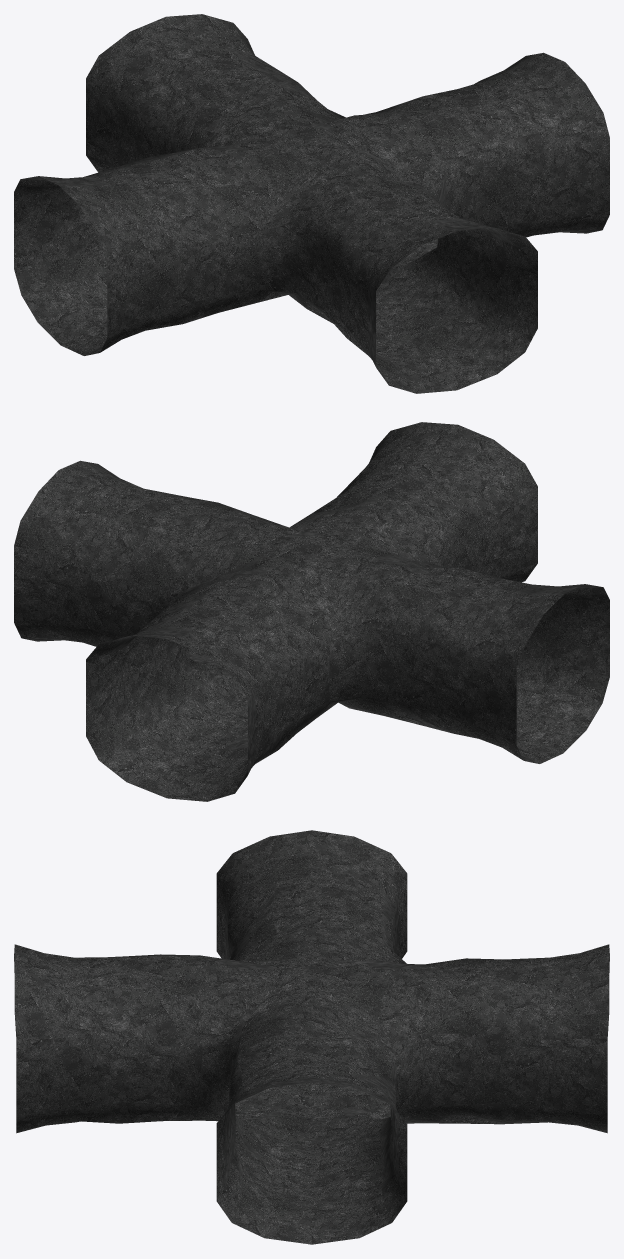
The model's file is CaveTIntersection.glb.
3 renders of one model, top to bottom at view 1: azimuth 30°, elevation 25°; view 2: azimuth 150°, elevation 25°; view 3: azimuth 270°, elevation 25°, orthographic.
Visible parts, largest first — view 1: Cube.110; view 2: Cube.110; view 3: Cube.110.
Boxes of the visible parts, <box> form: Cube.110: <box>14,14,609,393</box>; Cube.110: <box>14,422,609,801</box>; Cube.110: <box>14,830,609,1244</box>.
Size of the model in its own units: 23.77 by 7.2 by 23.77.
1 material, 1 textured.
